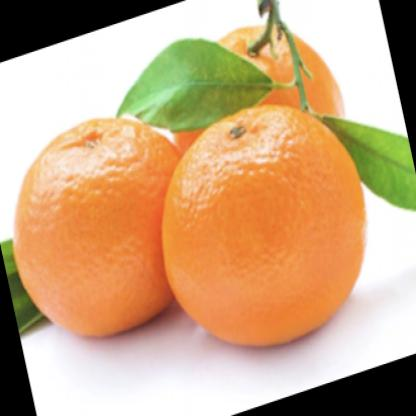orange: (172, 89, 370, 356), (10, 116, 180, 339)
